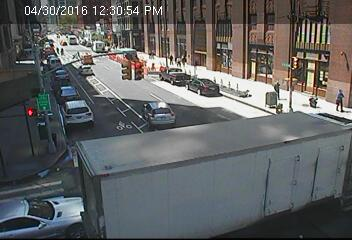neg: (195, 100, 213, 124), (83, 63, 99, 85), (123, 73, 138, 93), (146, 91, 159, 108), (54, 46, 61, 56), (59, 46, 64, 54)
pos: (329, 84, 349, 111), (270, 78, 284, 96), (166, 53, 177, 68), (146, 49, 157, 64), (179, 54, 189, 68), (176, 56, 183, 66)
